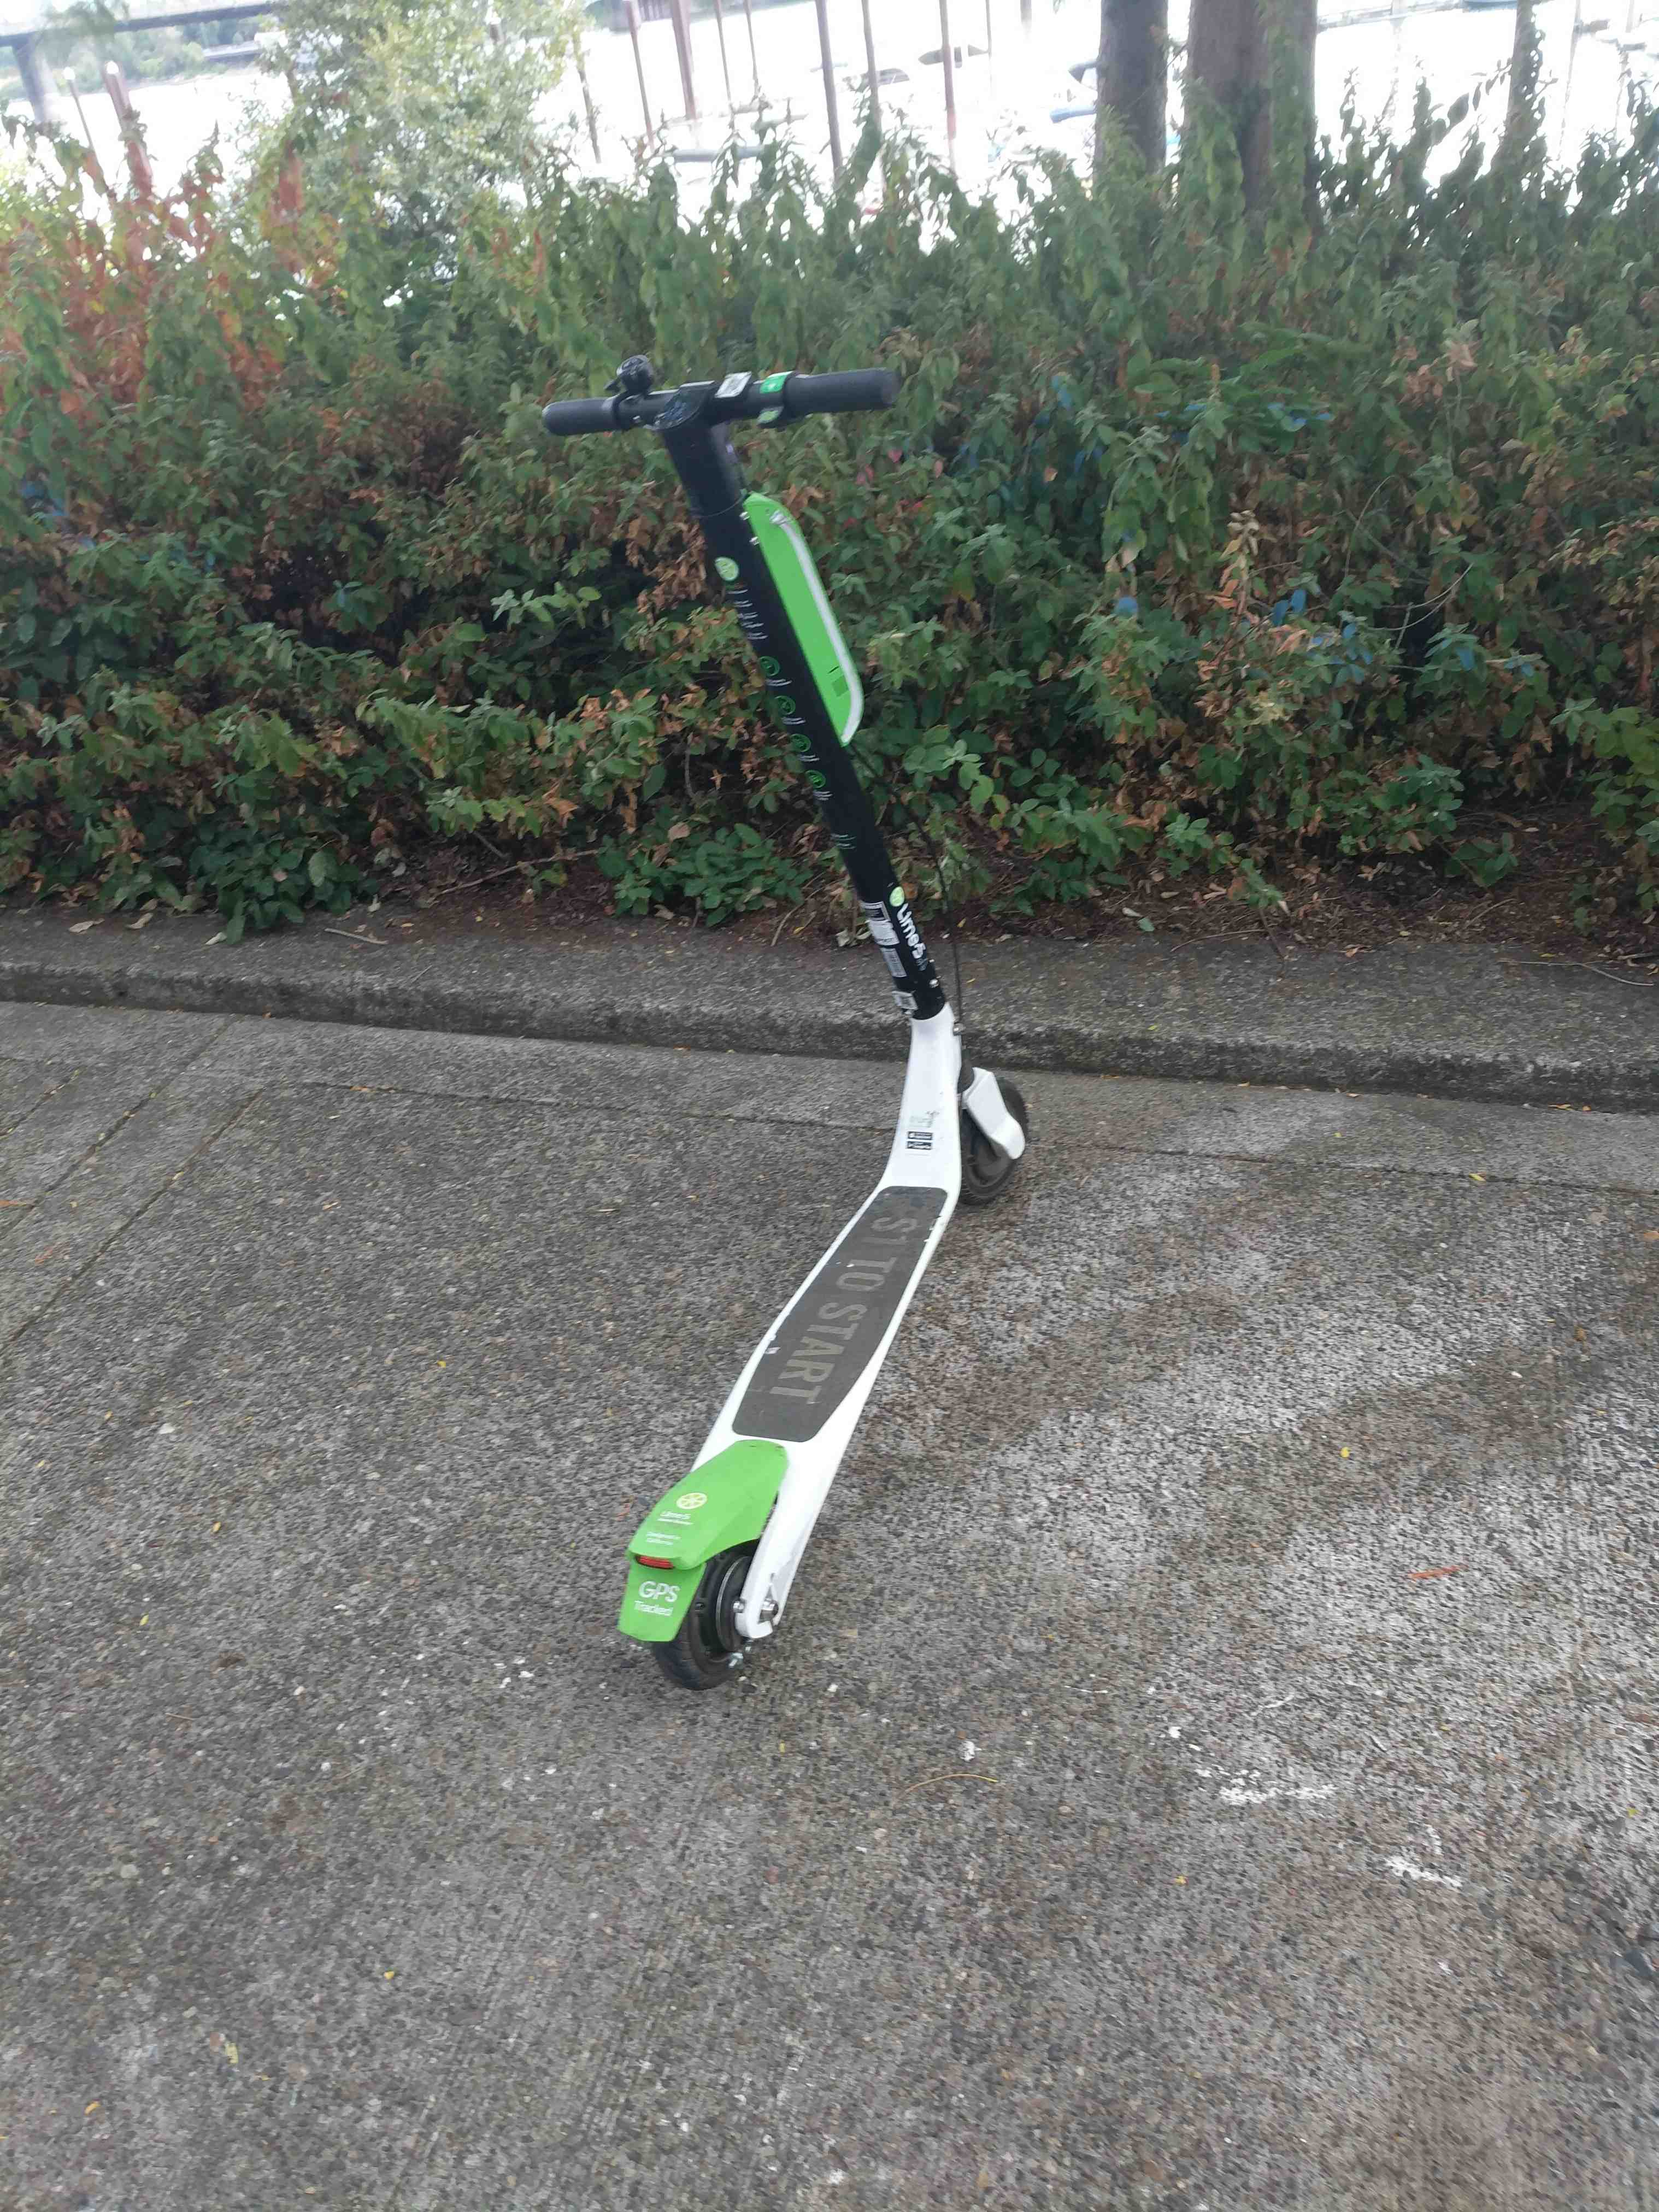scooter: (507, 340, 1075, 1700)
